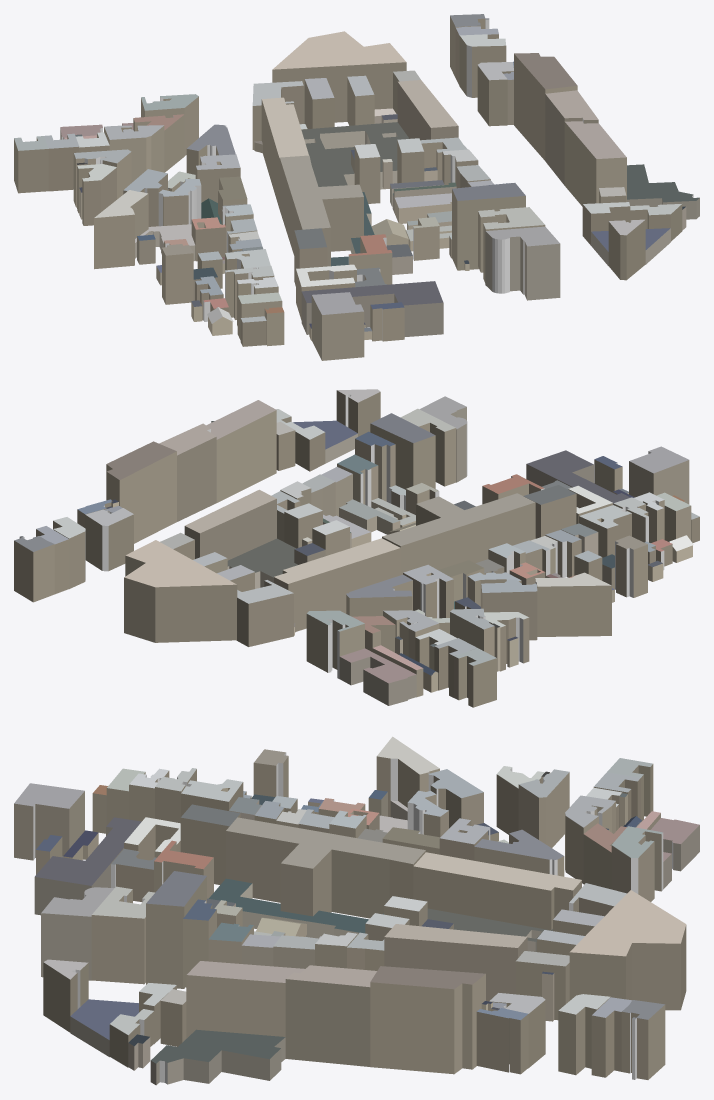
3 renders of one model, top to bottom at view 1: azimuth 30°, elevation 25°; view 2: azimuth 150°, elevation 25°; view 3: azimuth 270°, elevation 25°, orthographic. The views are drawn at different scales.
Visible parts, largest first — view 1: tuile; view 2: tuile; view 3: tuile.
Boxes of the visible parts, x1,y1,x2,y2 form: tuile: [14, 14, 699, 360]; tuile: [14, 389, 699, 707]; tuile: [14, 736, 699, 1085].
Bounding box in the file's own units: 275 × 40.39 × 273.
